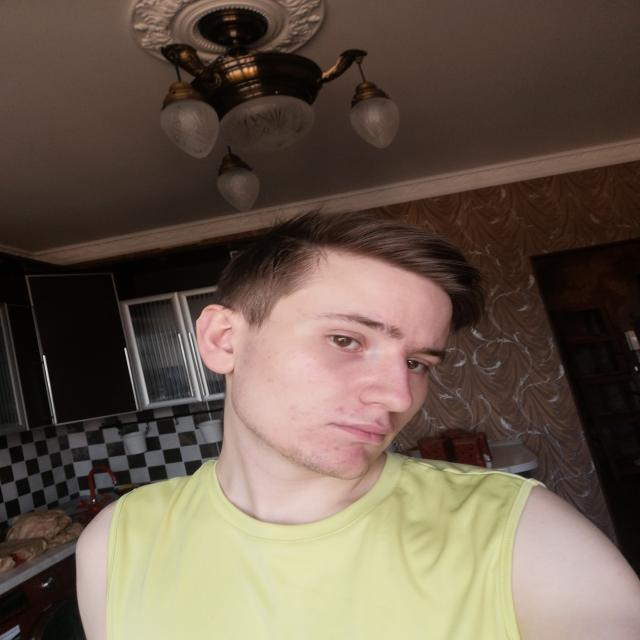acne: (348, 406, 365, 418), (334, 405, 346, 413), (264, 354, 275, 362), (286, 414, 297, 422), (288, 406, 298, 414), (260, 338, 268, 345), (333, 446, 342, 452), (339, 420, 347, 426), (296, 306, 302, 314), (266, 378, 274, 383), (322, 448, 328, 451)
pores: (322, 366, 369, 386), (387, 362, 403, 394)
